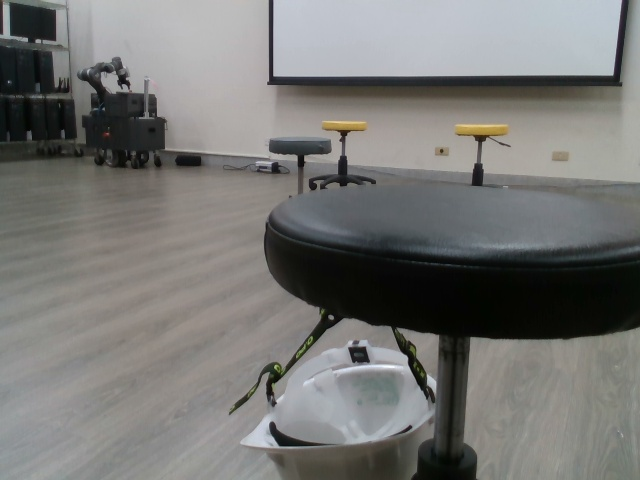helmet: (239, 335, 437, 476)
